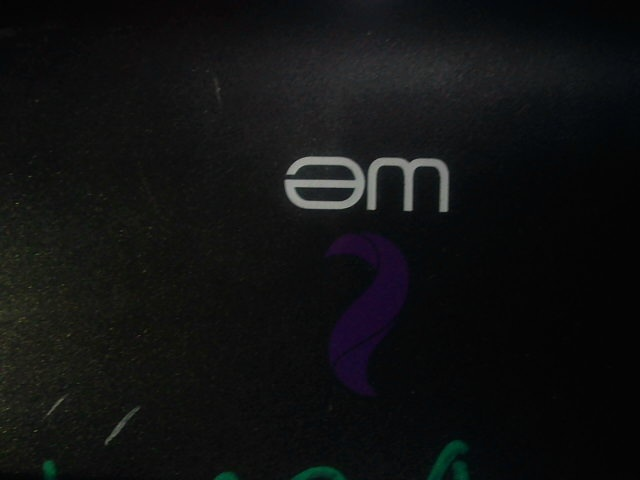AT_We: (264, 140, 460, 396)
